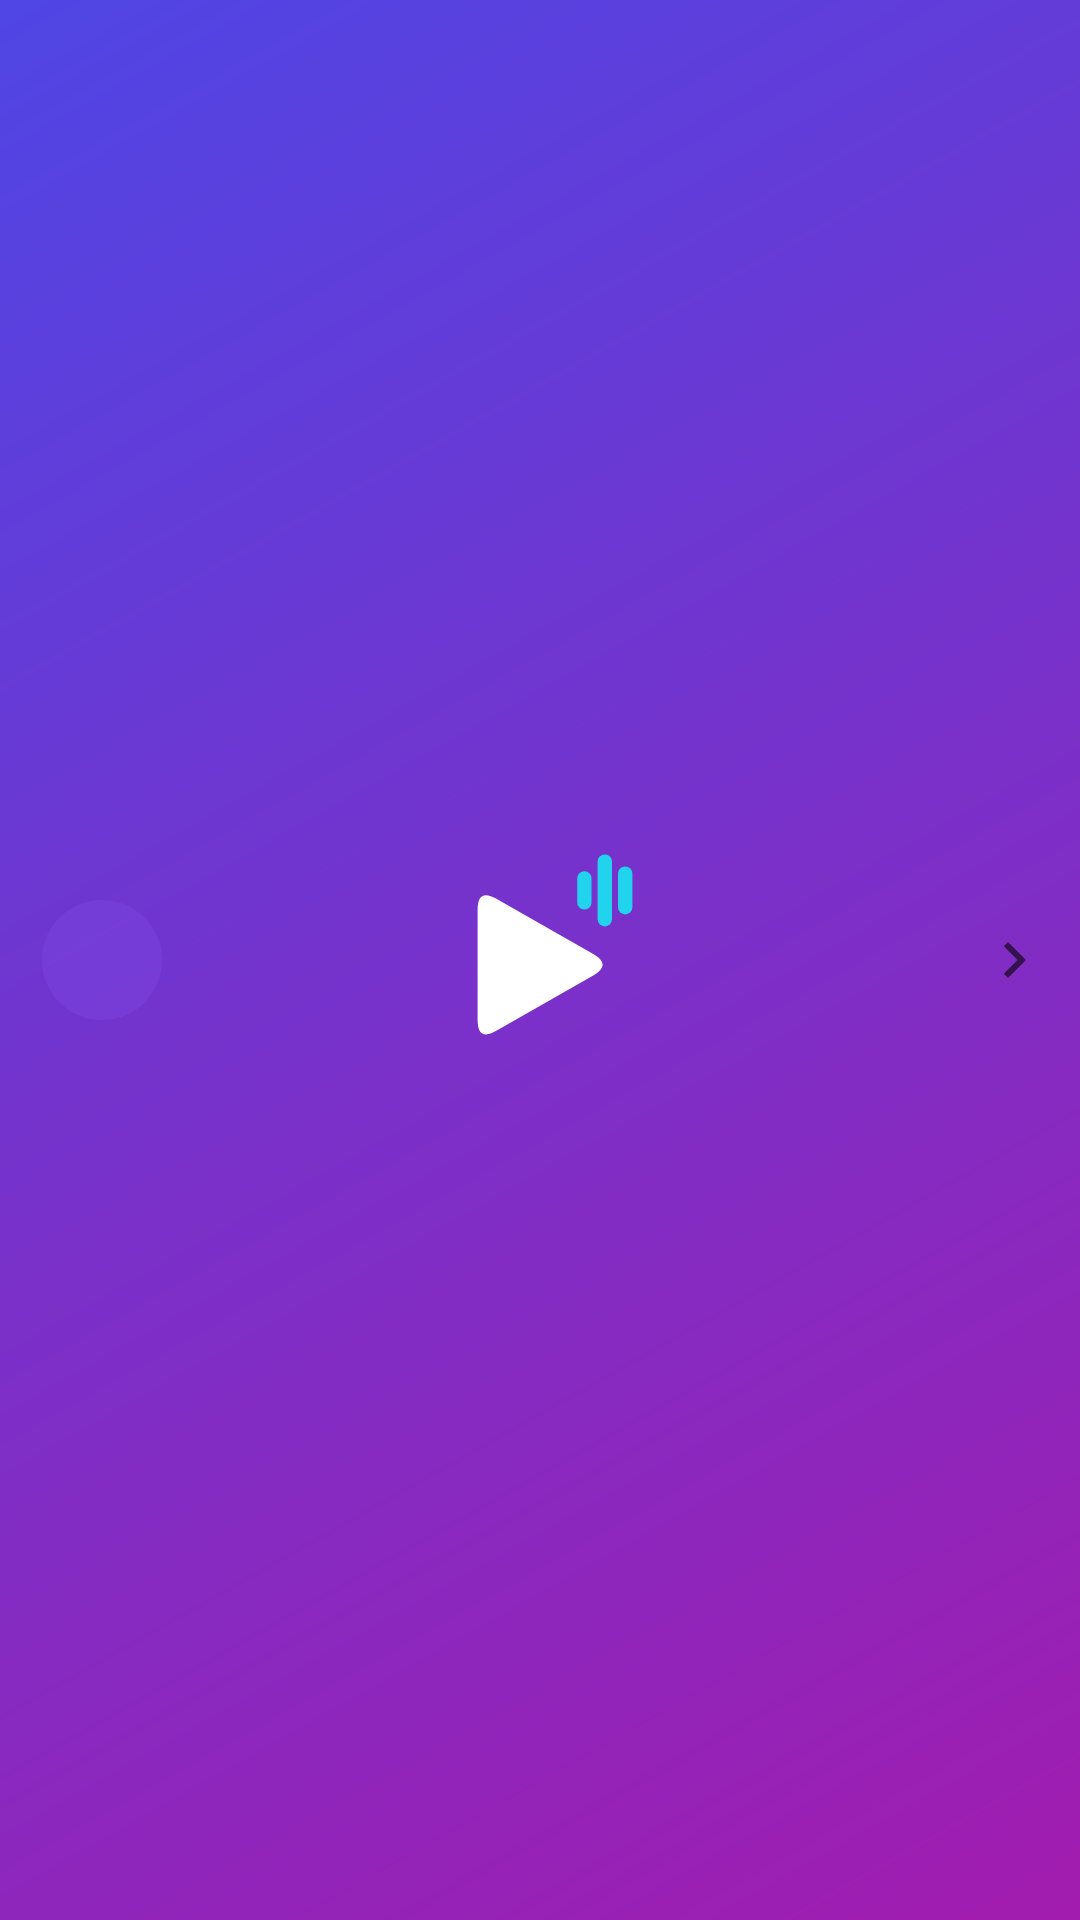

Screen size 1080×1920. Icon name, then its box in pixels as bbox(x1, y1, x2, y2):
pulseplay chevron: bbox(1004, 942, 1026, 978)
